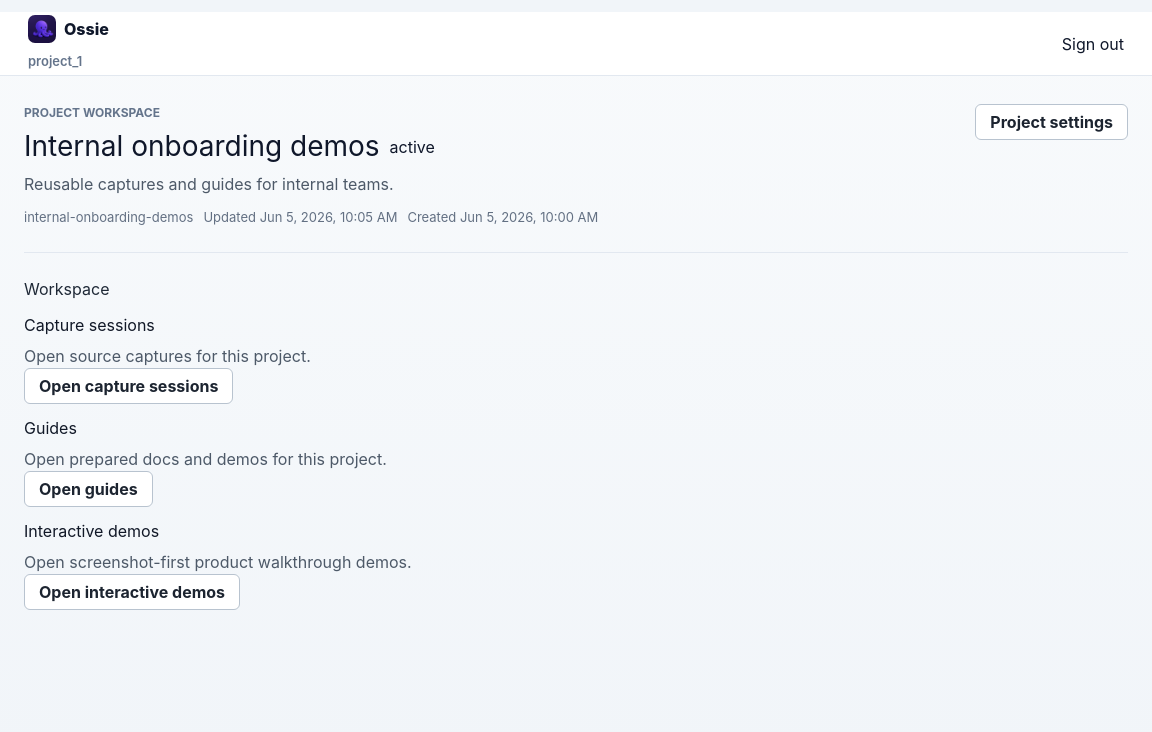
ProjectWorkspacePage › keeps workspace content visible when sign-out fails
The width and height of the screenshot is (1152, 732).
Expected: the heading "Internal onboarding demos" is shown, [24,130,380,164]
Click the button "Sign out" at (1093, 44), box [1062,32,1124,56]
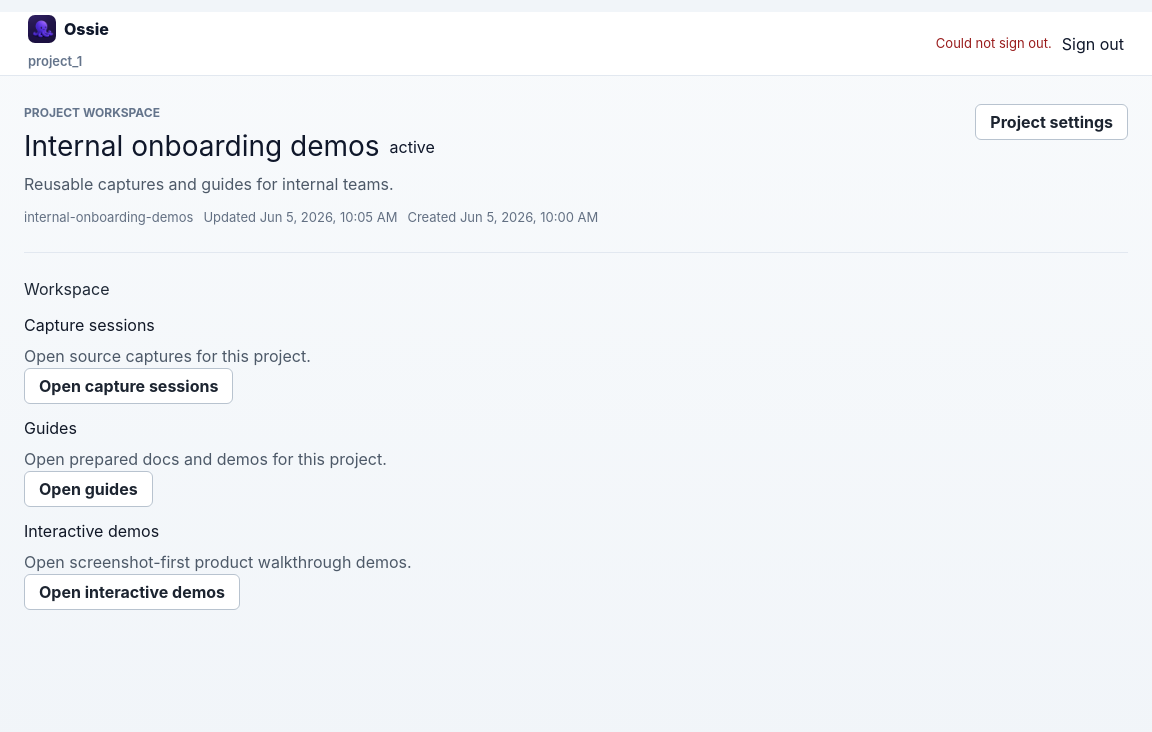
Expected: the heading "Internal onboarding demos" is shown, [24,130,380,164]
Expected: the text "Could not sign out." is shown, [936,34,1052,53]
